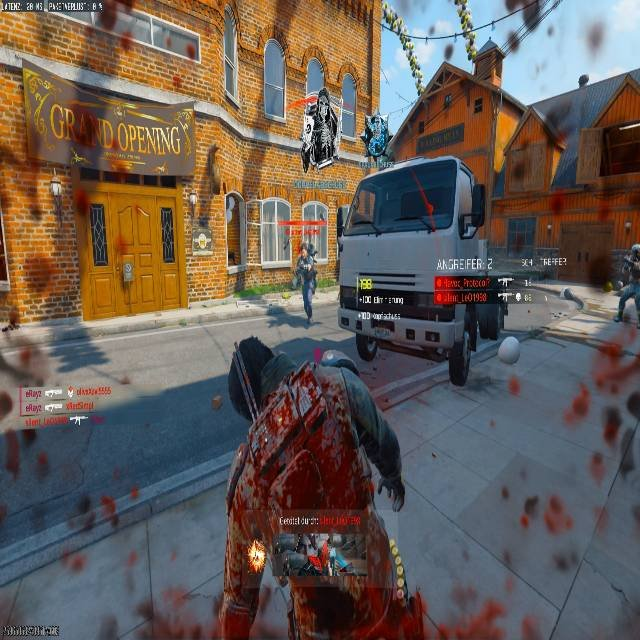head: (300, 239, 313, 258), (305, 242, 315, 256), (630, 244, 639, 257)
player: (218, 320, 409, 638), (614, 240, 639, 326), (293, 242, 319, 324), (361, 115, 388, 159)
